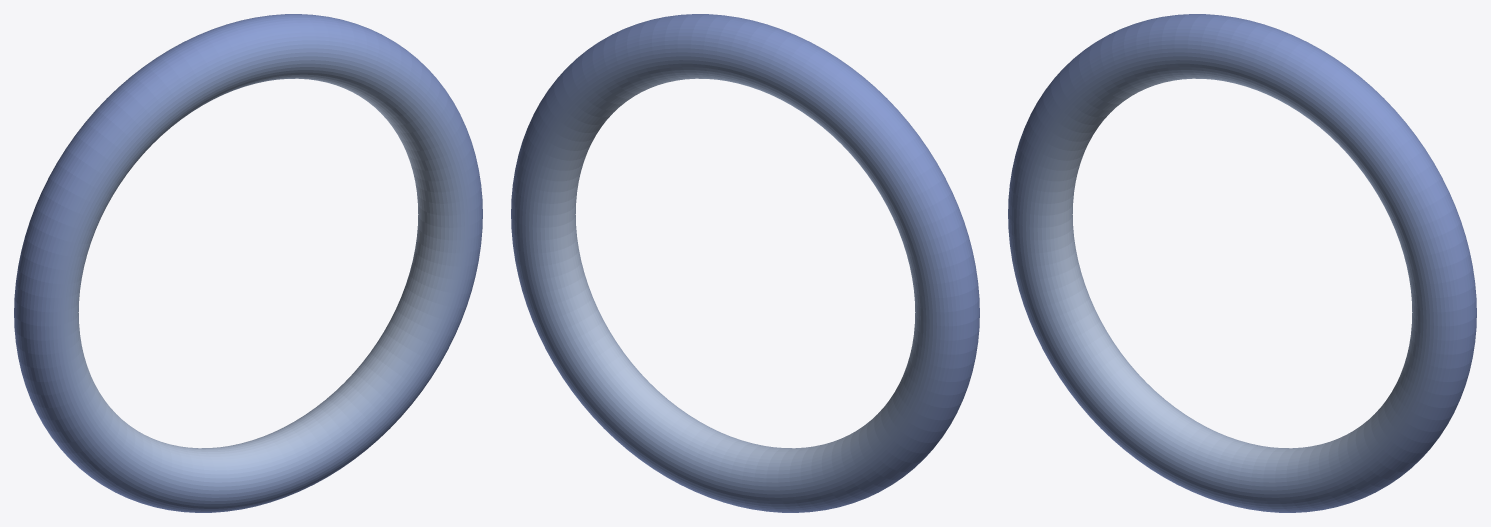
3 views of the same model, side by side, from view 1: azimuth 30°, elevation 25°; view 2: azimuth 150°, elevation 25°; view 3: azimuth 330°, elevation 25° (orthographic).
Visible parts, largest first — view 1: world; view 2: world; view 3: world.
Boxes of the visible parts, x1,y1,x2,y2 form: world: [14, 14, 482, 512]; world: [511, 14, 979, 512]; world: [1008, 14, 1476, 512].
Size of the model in its own units: 27.33 by 27.33 by 3.33.
